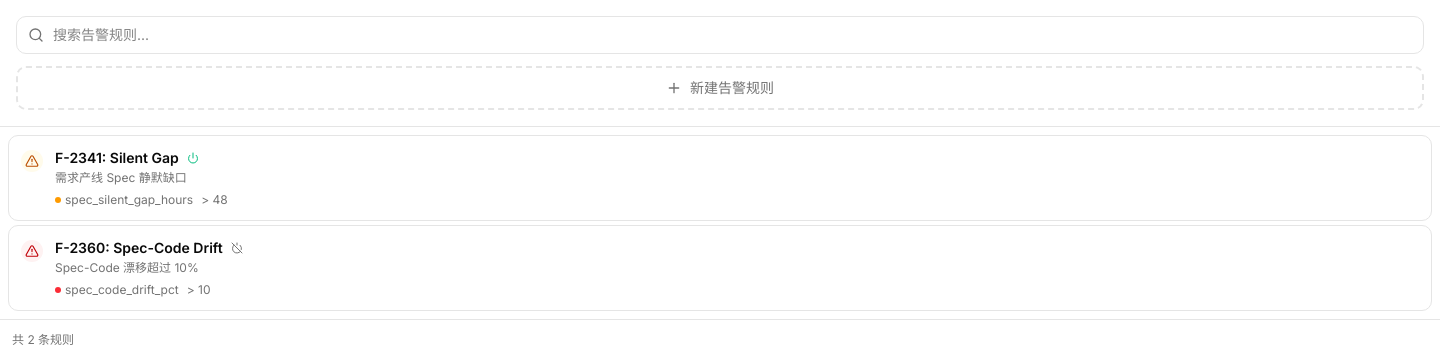
AlertRuleList › filters rules by name
The image size is (1440, 362).
Type "Drift" into the field with placeholder "搜索告警规则...". click: (720, 35)
box: [16, 16, 1424, 54]
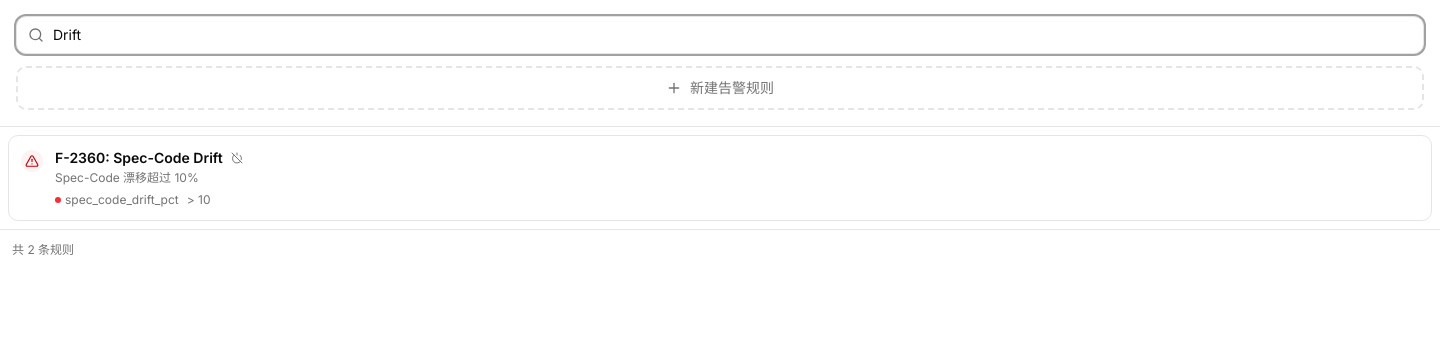
Expected: the heading "F-2360: Spec-Code Drift" is shown, [55, 148, 223, 168]
Expected: the button "F-2341: Silent Gap" is gone
